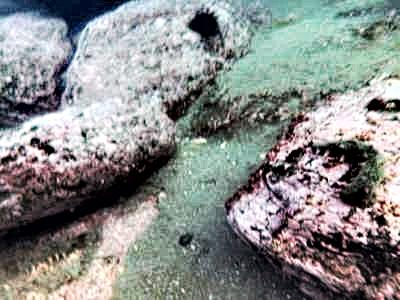urchin: (191, 9, 215, 32)
